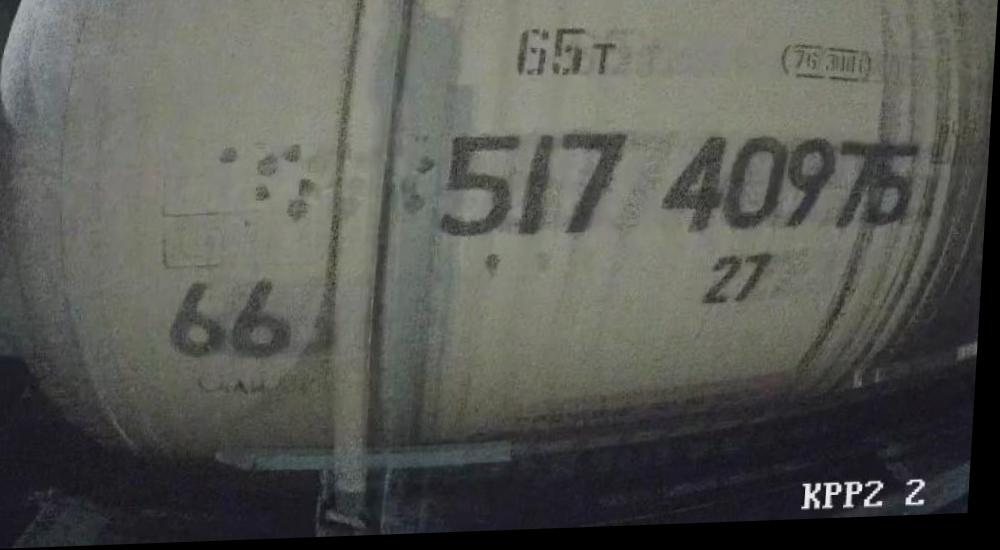Wagon-number: (436, 119, 926, 253)
